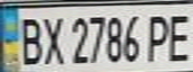2: (66, 11, 90, 65)
6: (121, 10, 148, 63)
7: (84, 11, 106, 64)
8: (103, 11, 127, 63)
B: (12, 12, 45, 65)
E: (163, 9, 193, 63)
P: (142, 10, 175, 63)
X: (36, 11, 66, 65)
